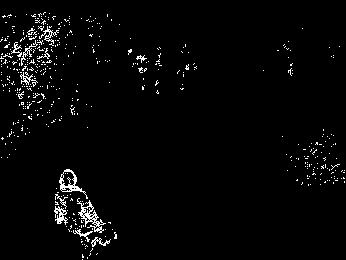person: (53, 167, 121, 260)
